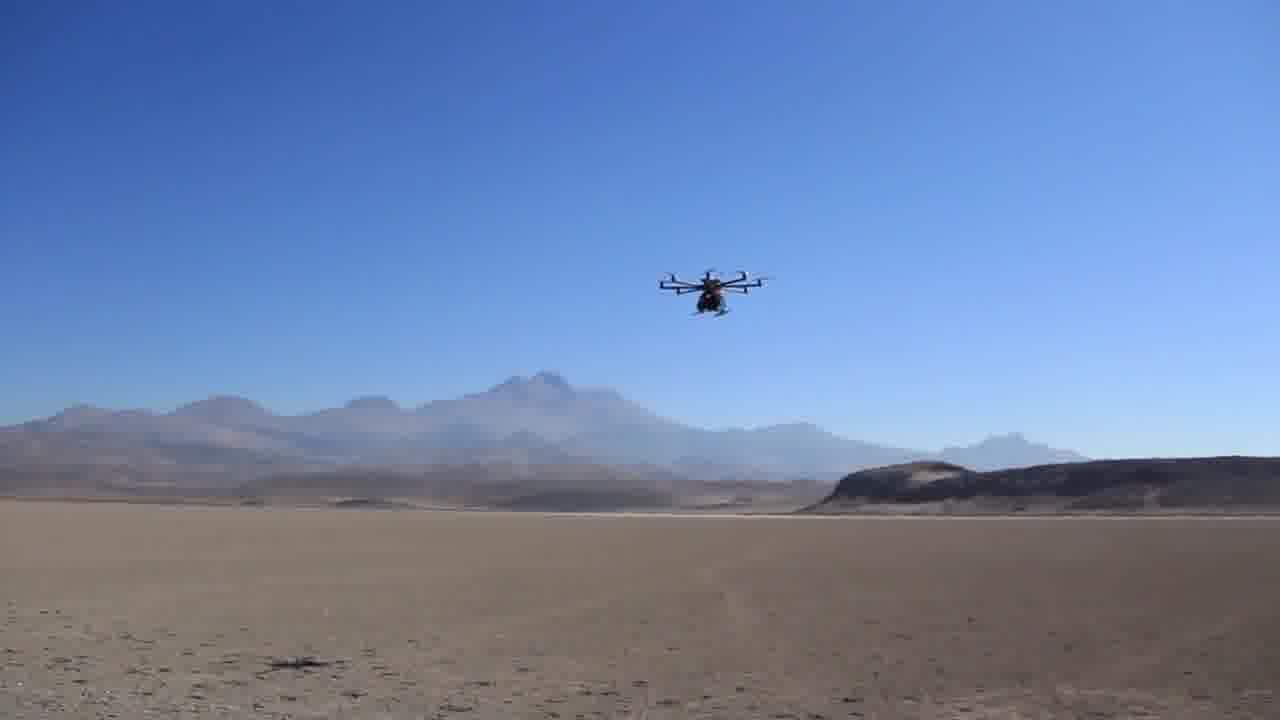drone: (654, 265, 772, 326)
